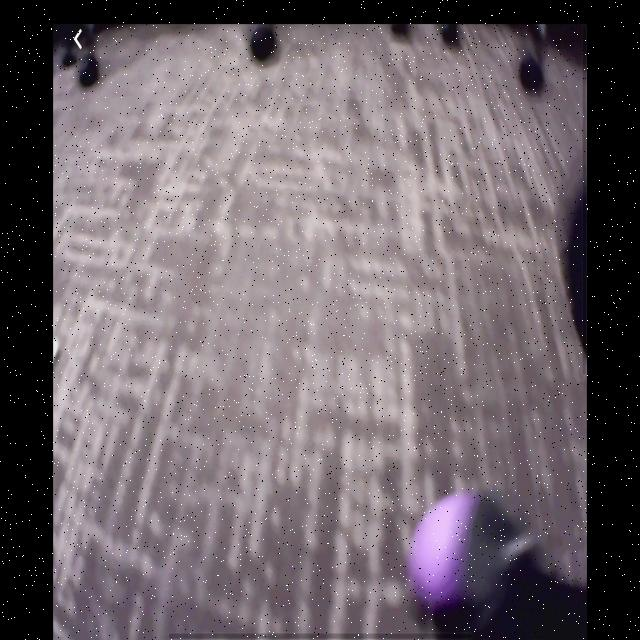ball: (407, 488, 490, 616)
